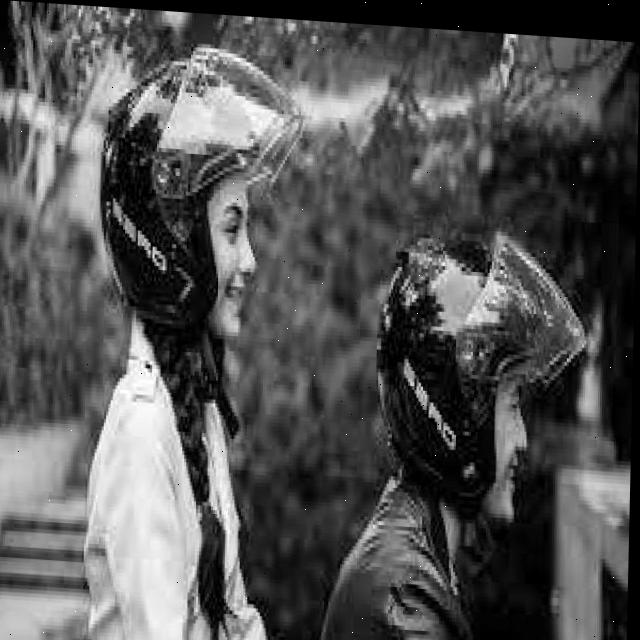Helmet: (368, 217, 592, 514), (97, 38, 302, 354)
